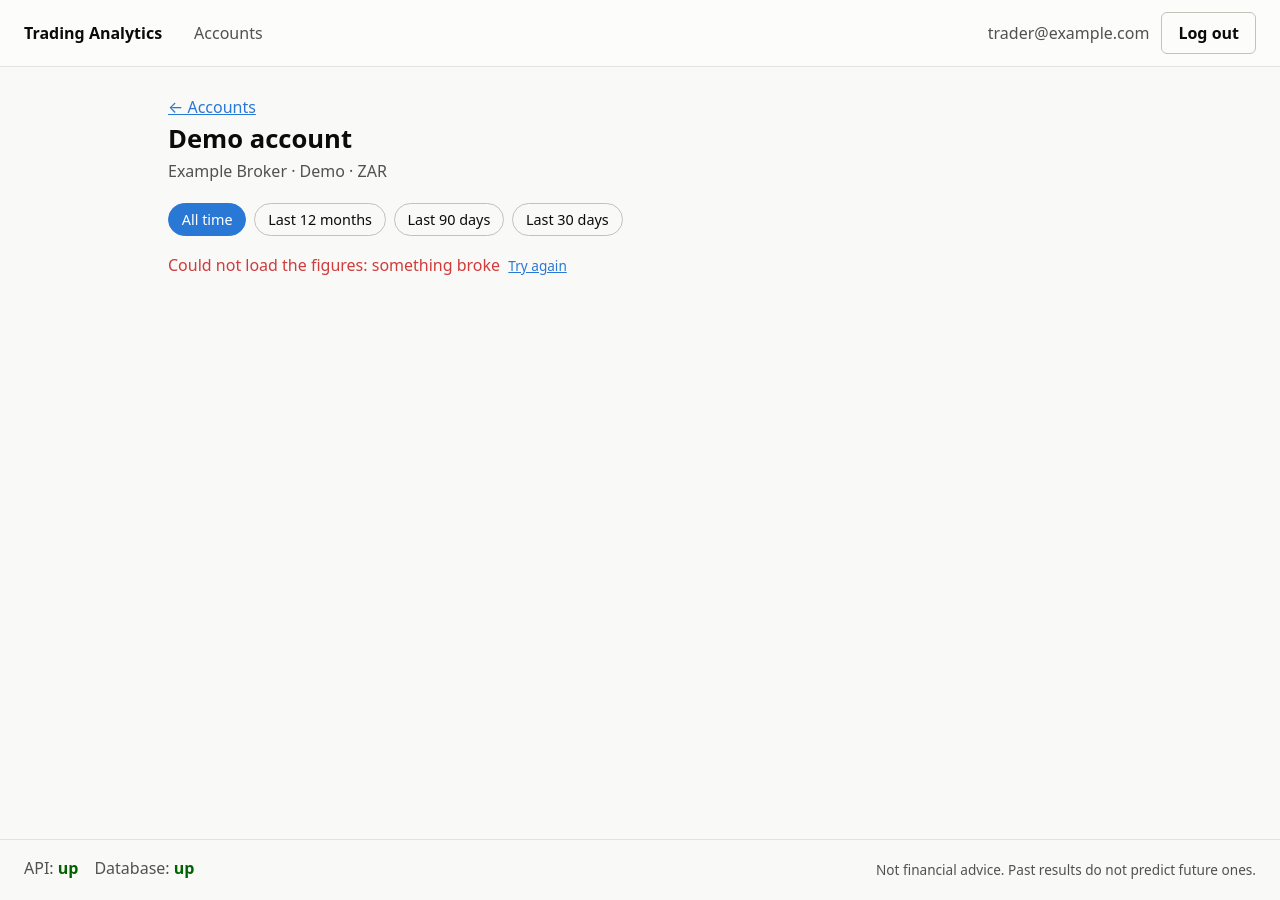
Test: account overview › shows an error with a way to try again when the figures fail to load
Expected: the message shows "something broke", 372,254 -> 500,276
Click the button "Try again" at (538, 266), box 504,252 -> 571,281
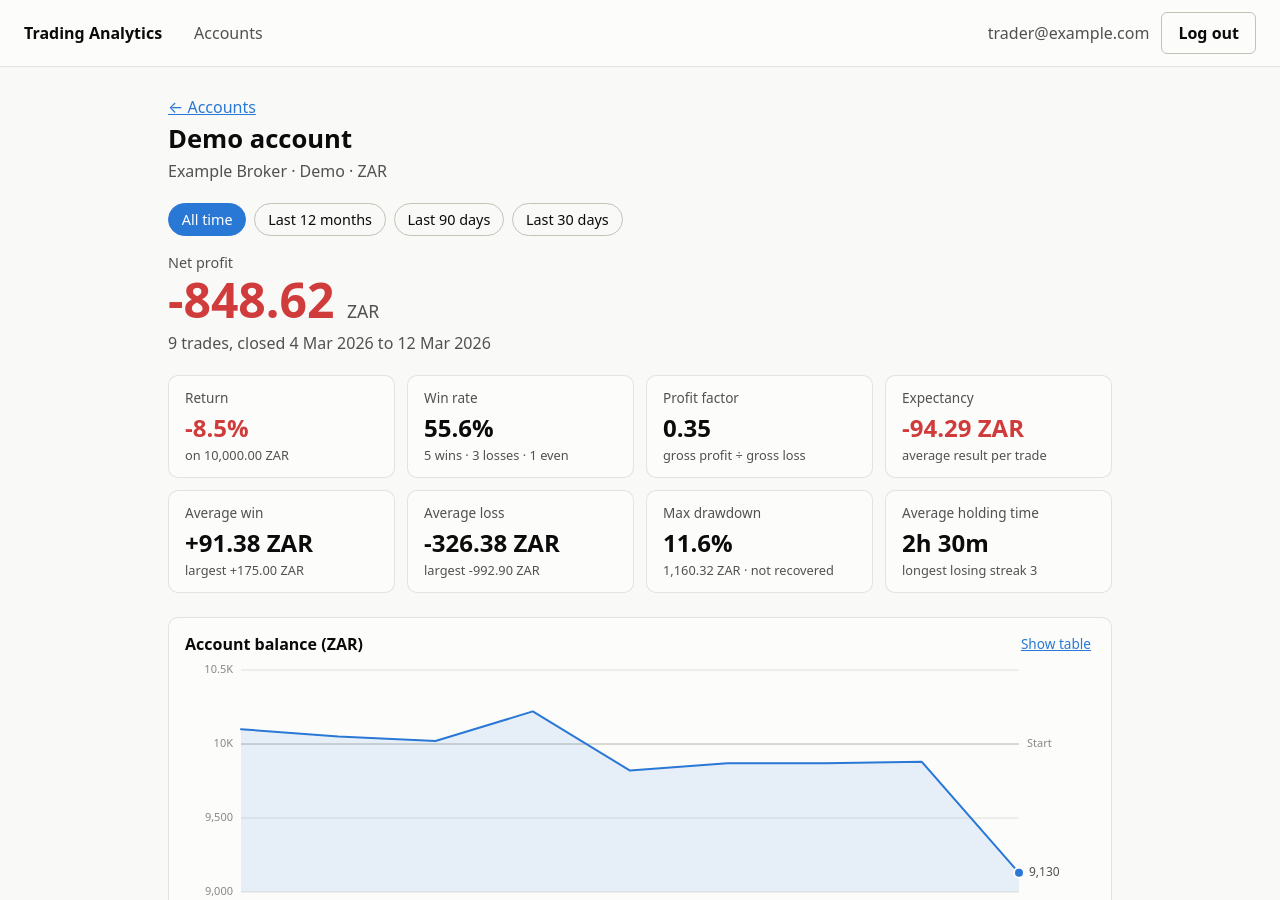
Now the element "Net profit" is shown, box 168,253 -> 491,354
